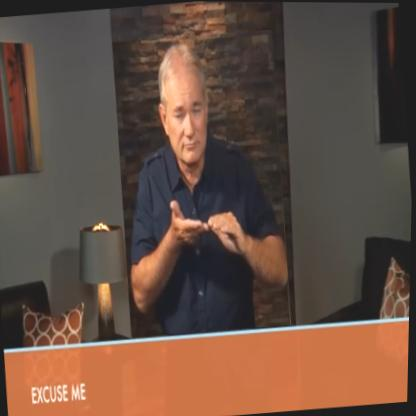ExcuseMe: (108, 29, 298, 339)
